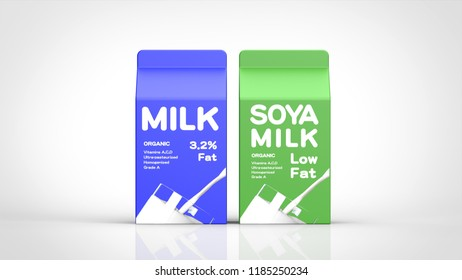carton: (123, 25, 232, 232), (235, 25, 339, 237)
